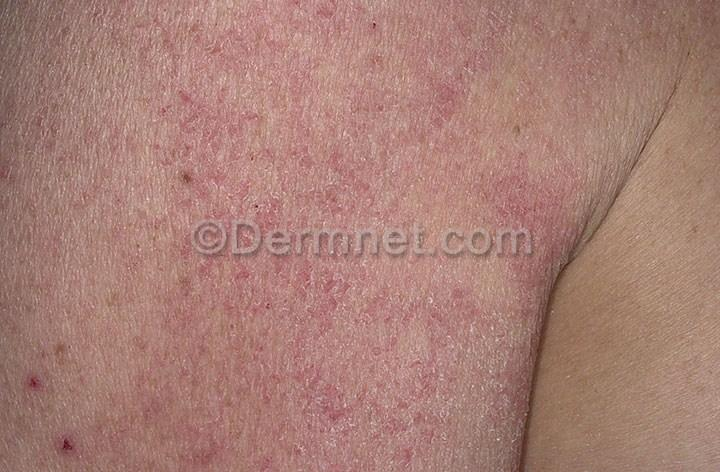Eczema: (158, 252, 500, 472), (359, 2, 597, 219), (114, 0, 350, 218), (1, 347, 146, 472)
